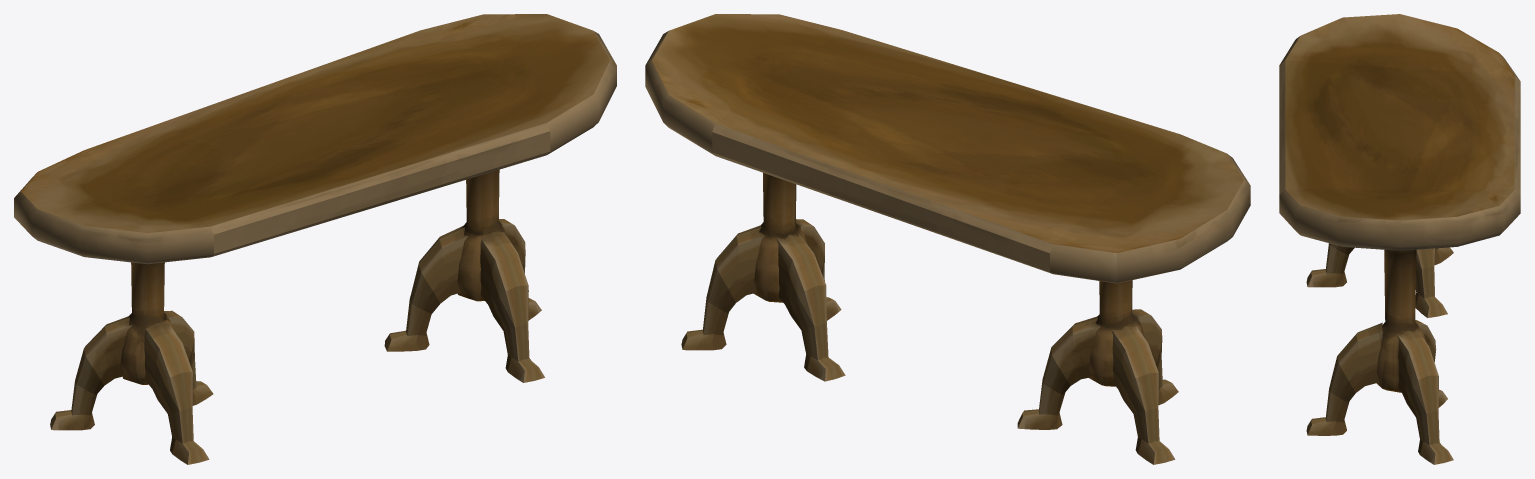
The model's file is longtable.FBX.
3 views of the same model, side by side, from view 1: azimuth 30°, elevation 25°; view 2: azimuth 150°, elevation 25°; view 3: azimuth 270°, elevation 25° (orthographic). The views are drawn at different scales.
Visible parts, largest first — view 1: freestandingtabble002; view 2: freestandingtabble002; view 3: freestandingtabble002.
Part boxes in pixels (x1,y1,x2,y2): freestandingtabble002: (14,14,616,464); freestandingtabble002: (645,14,1250,464); freestandingtabble002: (1279,14,1520,464).
Size of the model in its own units: 43.19 by 20.78 by 17.58.
